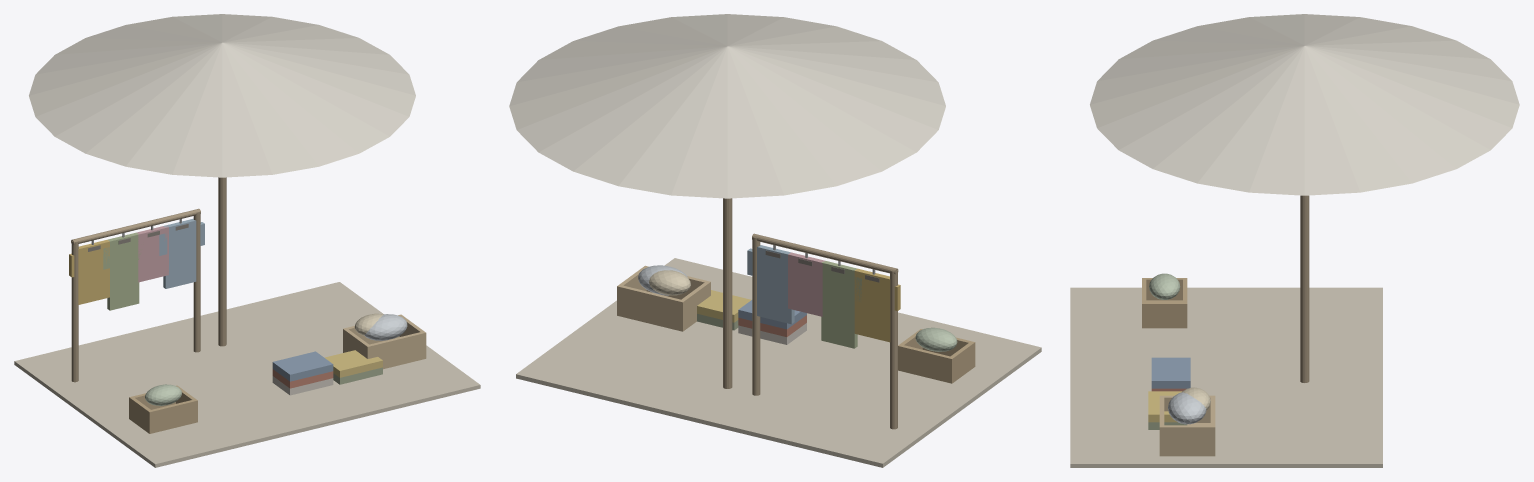
Rendered from stall-clothes.glb.
3 views of the same model, side by side, from view 1: azimuth 30°, elevation 25°; view 2: azimuth 150°, elevation 25°; view 3: azimuth 270°, elevation 25° (orthographic). The views are drawn at different scales.
Parts seen in each view (by area): view 1: part_19, part_15, part_05, part_12, part_06, part_03, part_08, part_14, part_13, part_01, part_16, part_10 (+1 smaller); view 2: part_19, part_15, part_05, part_12, part_06, part_14, part_08, part_03, part_13, part_18, part_16, part_07 (+1 smaller); view 3: part_19, part_15, part_12, part_05, part_08, part_01, part_10, part_07, part_16.
Part boxes in pixels (<box>): part_19: <box>29,14,415,177</box>; part_15: <box>14,282,480,467</box>; part_05: <box>71,177,226,382</box>; part_12: <box>343,314,426,369</box>; part_06: <box>103,232,140,310</box>; part_03: <box>159,218,204,288</box>; part_08: <box>129,385,197,433</box>; part_14: <box>69,240,109,304</box>; part_13: <box>137,225,168,282</box>; part_01: <box>272,351,333,381</box>; part_16: <box>325,350,382,377</box>; part_10: <box>364,314,407,340</box>; part_19: <box>509,14,945,198</box>; part_15: <box>516,258,1041,467</box>; part_05: <box>723,198,898,429</box>; part_12: <box>617,265,710,331</box>; part_06: <box>821,261,861,348</box>; part_14: <box>854,268,900,342</box>; part_08: <box>898,329,975,383</box>; part_03: <box>747,245,794,324</box>; part_13: <box>788,252,824,316</box>; part_18: <box>649,270,690,295</box>; part_16: <box>697,290,751,322</box>; part_07: <box>915,327,957,351</box>; part_19: <box>1090,14,1519,195</box>; part_15: <box>1070,287,1382,467</box>; part_12: <box>1159,395,1215,456</box>; part_05: <box>1300,195,1309,382</box>; part_08: <box>1142,278,1187,328</box>; part_01: <box>1151,357,1190,388</box>; part_10: <box>1168,392,1206,424</box>; part_07: <box>1149,273,1180,299</box>; part_16: <box>1148,391,1181,422</box>.
Bounding box in the file's own units: 6.7 × 5.75 × 6.9.
